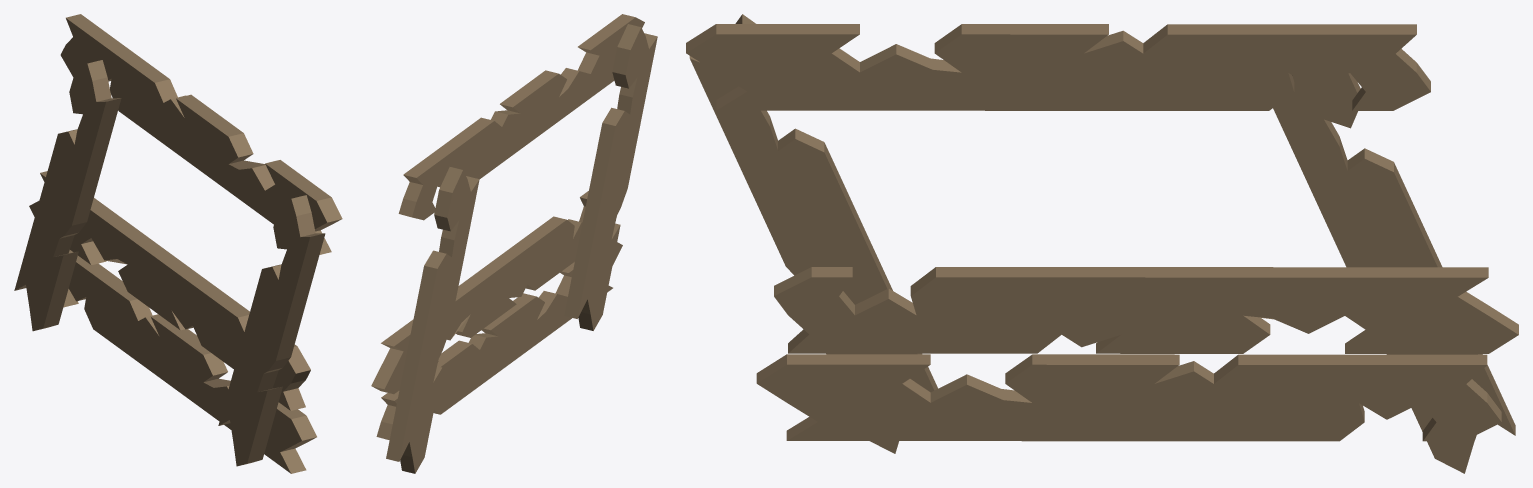
The model's file is WoodBarricade3.fbx.
3 views of the same model, side by side, from view 1: azimuth 30°, elevation 25°; view 2: azimuth 150°, elevation 25°; view 3: azimuth 270°, elevation 25° (orthographic). The views are drawn at different scales.
Parts seen in each view (by area): view 1: WoodBarricade3; view 2: WoodBarricade3; view 3: WoodBarricade3.
Part boxes in pixels (<box>): WoodBarricade3: <box>14,14,342,473</box>; WoodBarricade3: <box>371,14,657,473</box>; WoodBarricade3: <box>686,14,1518,473</box>.
Size of the model in its own units: 0.2304 by 2.28 by 3.83.
